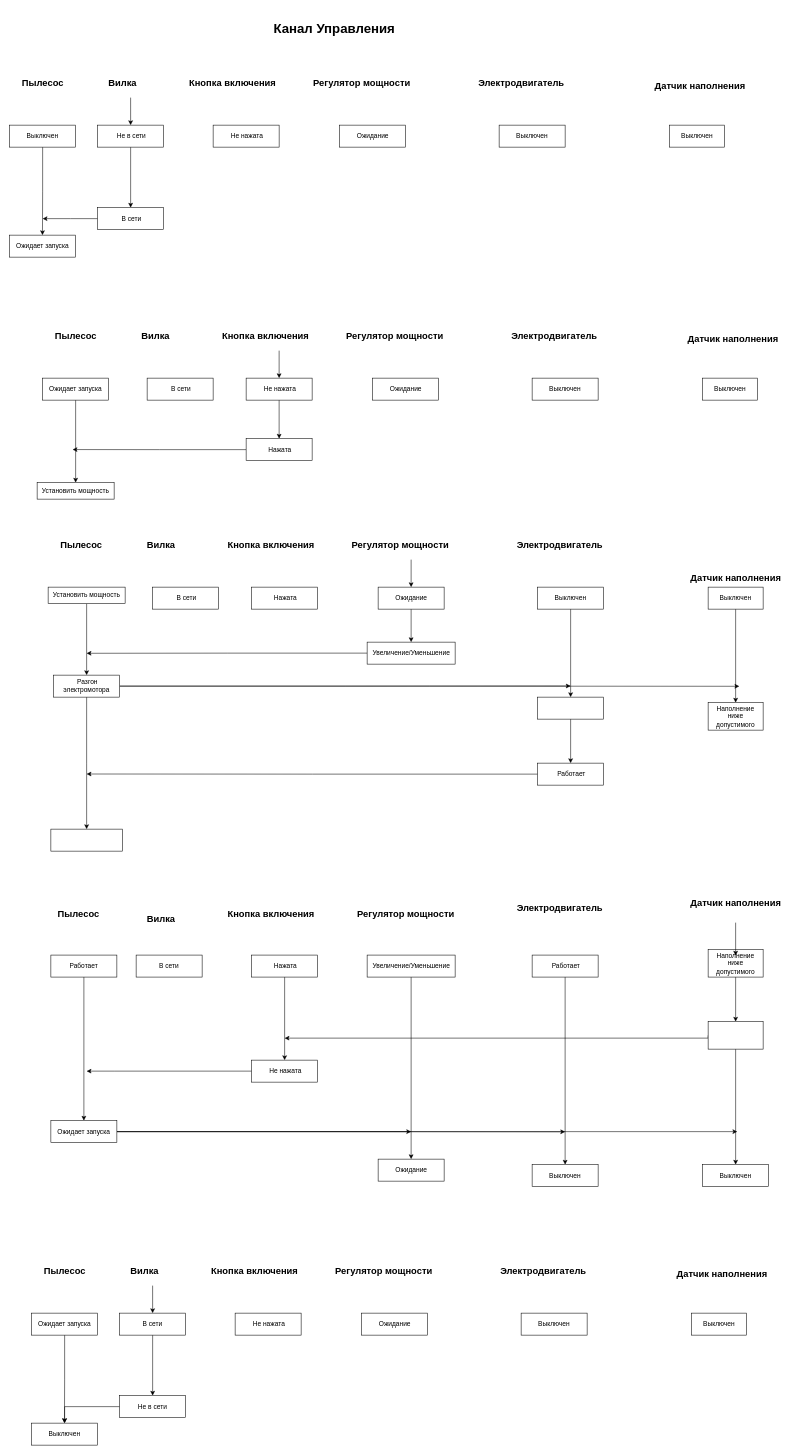
The diagram is 798 pixels wide and 1455 high, and some of its shapes have lost their labels. Here are the shapes that lost their labels. From the top down, the centre of each, then its label:
the point at 570,708: Разгоняется
the point at 86,840: Работа
the point at 735,1035: Наполнение выше допустимого
